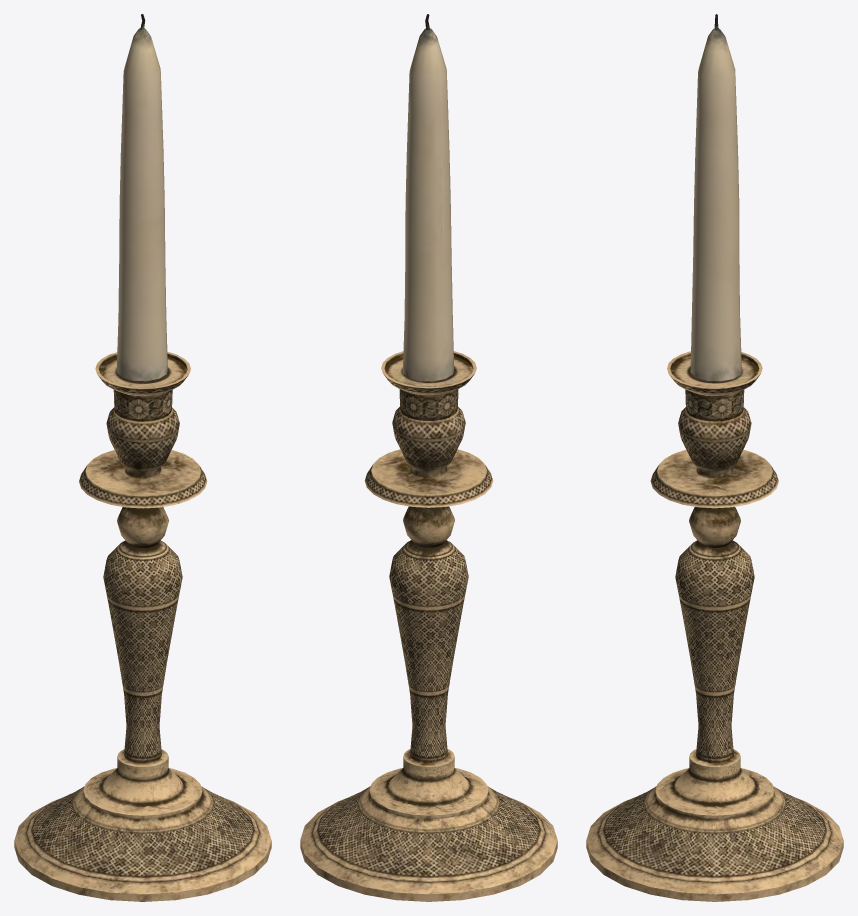
The model's file is brass_candleholders.glb.
3 renders of one model, left to right at view 1: azimuth 30°, elevation 25°; view 2: azimuth 150°, elevation 25°; view 3: azimuth 270°, elevation 25°, orthographic.
Parts seen in each view (by area): view 1: brass_candleholder_01; view 2: brass_candleholder_01; view 3: brass_candleholder_01.
Boxes of the visible parts, <box> form: brass_candleholder_01: <box>14,14,271,901</box>; brass_candleholder_01: <box>300,14,557,901</box>; brass_candleholder_01: <box>586,14,843,901</box>.
Bounding box in the file's own units: 0.0974 × 0.3479 × 0.0974.
1 material, 1 textured.
